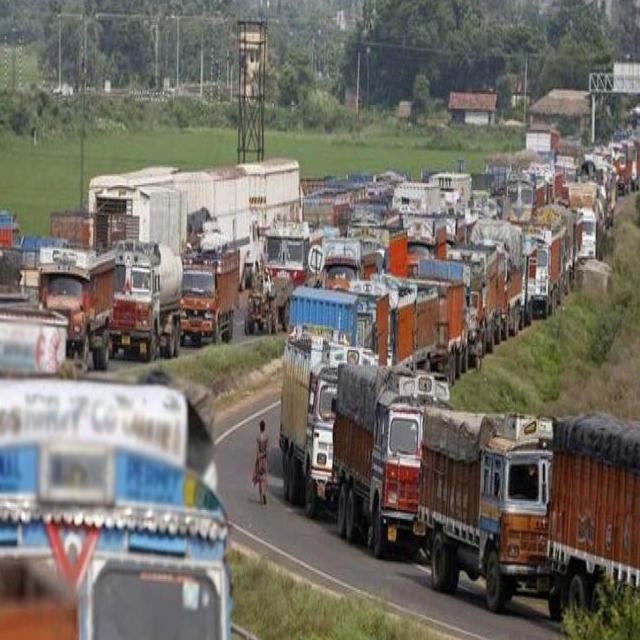truck: (415, 409, 552, 611), (332, 365, 449, 556), (280, 331, 371, 516), (39, 247, 115, 369), (111, 242, 182, 360), (181, 240, 240, 342)
